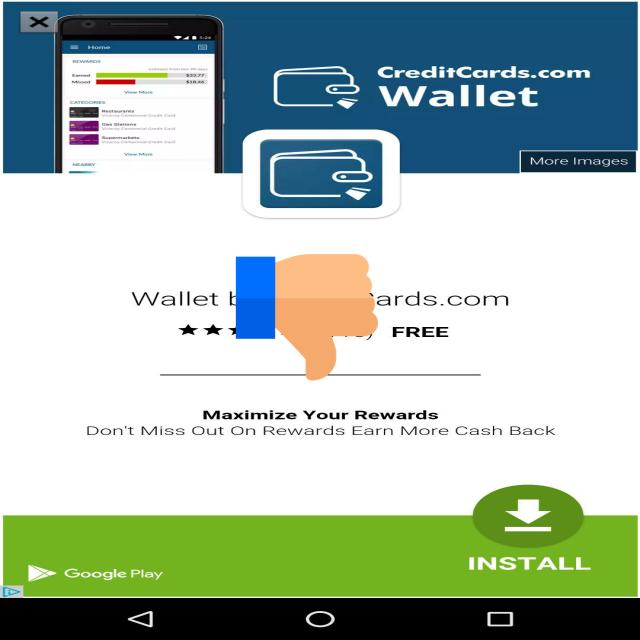obstruction: (236, 251, 378, 384)
